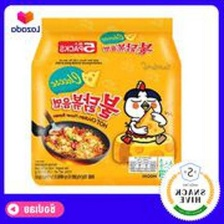snack: (25, 10, 188, 190)
